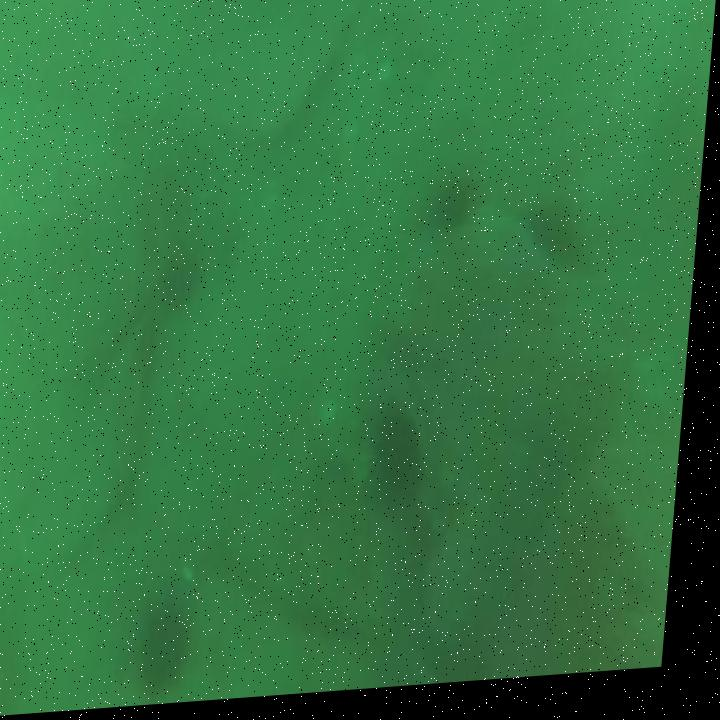echinus: (380, 420, 430, 516), (532, 208, 585, 273), (151, 608, 198, 680), (163, 254, 206, 313), (434, 185, 475, 238)
